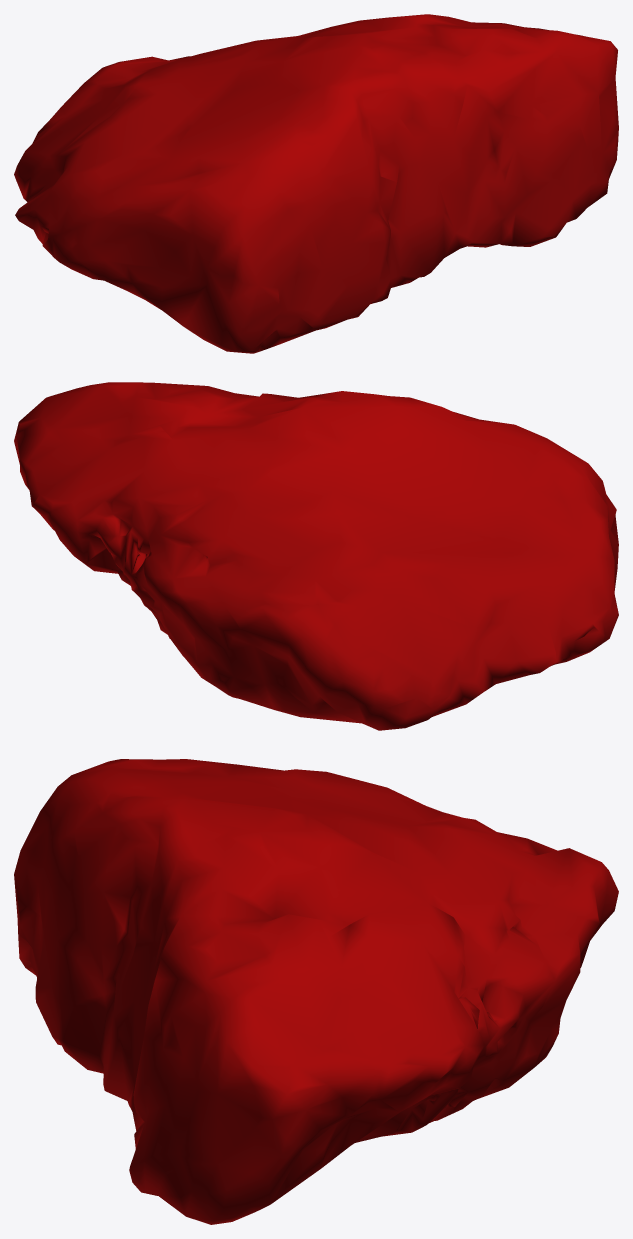
Rendered from mossrock_b_10.glb.
The picture shows the model from 3 angles, top to bottom: view 1: azimuth 30°, elevation 25°; view 2: azimuth 150°, elevation 25°; view 3: azimuth 270°, elevation 25°; orthographic projection. The views are drawn at different scales.
Visible parts, largest first — view 1: LOD0; view 2: LOD0; view 3: LOD0.
Boxes of the visible parts, bbox=[...] form: LOD0: bbox=[14, 14, 618, 353]; LOD0: bbox=[14, 382, 618, 730]; LOD0: bbox=[14, 759, 618, 1224].
Size of what is drawn, in the model's own units: 2.2 by 0.7685 by 1.55.
